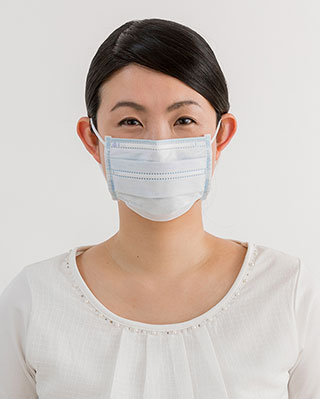mask: (105, 136, 213, 209)
